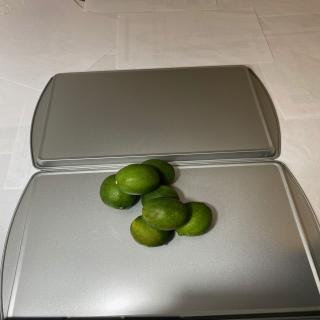Chilli: (99, 158, 213, 248)
Lemon: (142, 197, 188, 231), (114, 163, 160, 195), (130, 215, 172, 248), (175, 201, 212, 237), (99, 174, 136, 210), (141, 158, 175, 185), (141, 184, 180, 207)
